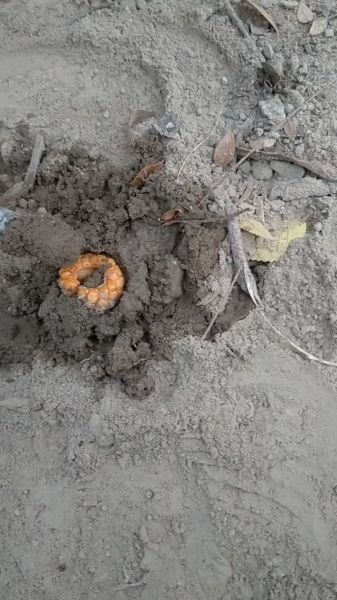eggs: (49, 247, 130, 318)
